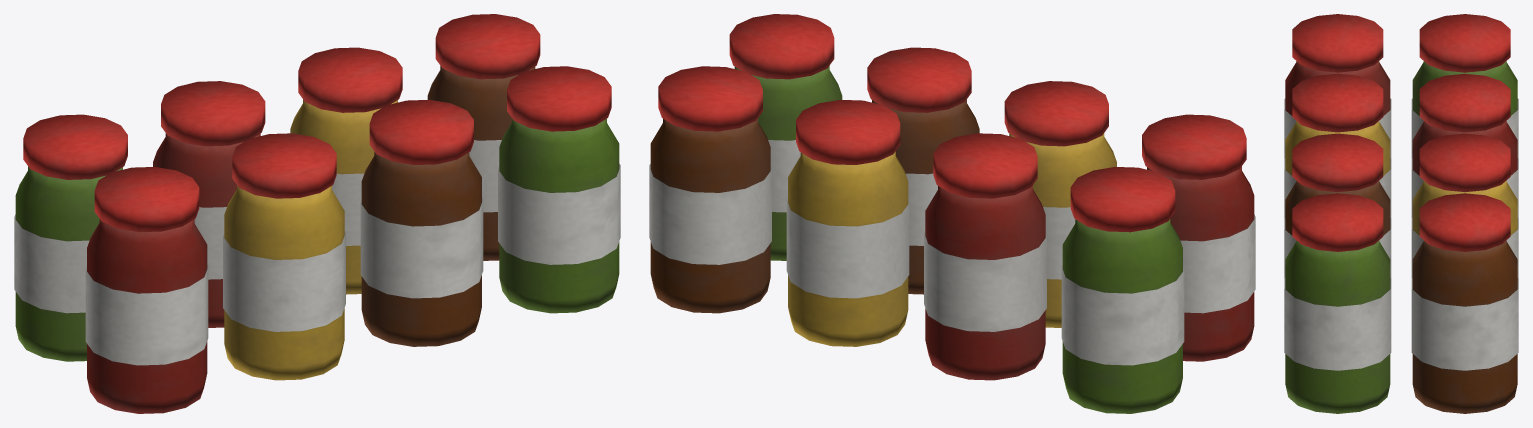
Rendered from sklep_polka_sloiki.glb.
The picture shows the model from 3 angles, left to right: view 1: azimuth 30°, elevation 25°; view 2: azimuth 150°, elevation 25°; view 3: azimuth 270°, elevation 25°; orthographic projection. The views are drawn at different scales.
Visible parts, largest first — view 1: Sloiki; view 2: Sloiki; view 3: Sloiki.
Part boxes in pixels (x1,y1,x2,y2): Sloiki: [14, 14, 620, 413]; Sloiki: [649, 14, 1255, 413]; Sloiki: [1284, 14, 1518, 413].
Bounding box in the file's own units: 0.3776 × 0.141 × 0.1657.
Materials: 1 (1 with a texture image).
